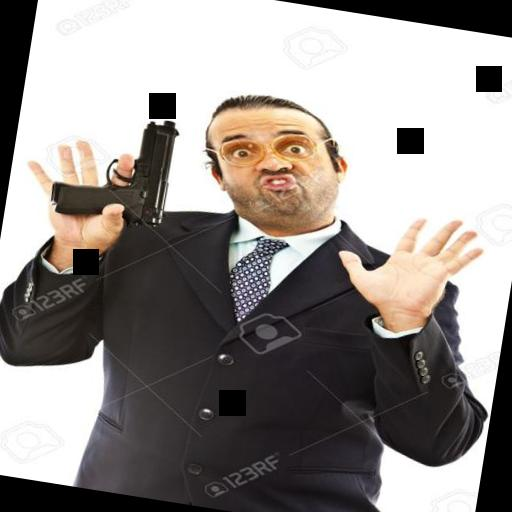Handgun: (46, 101, 179, 232)
